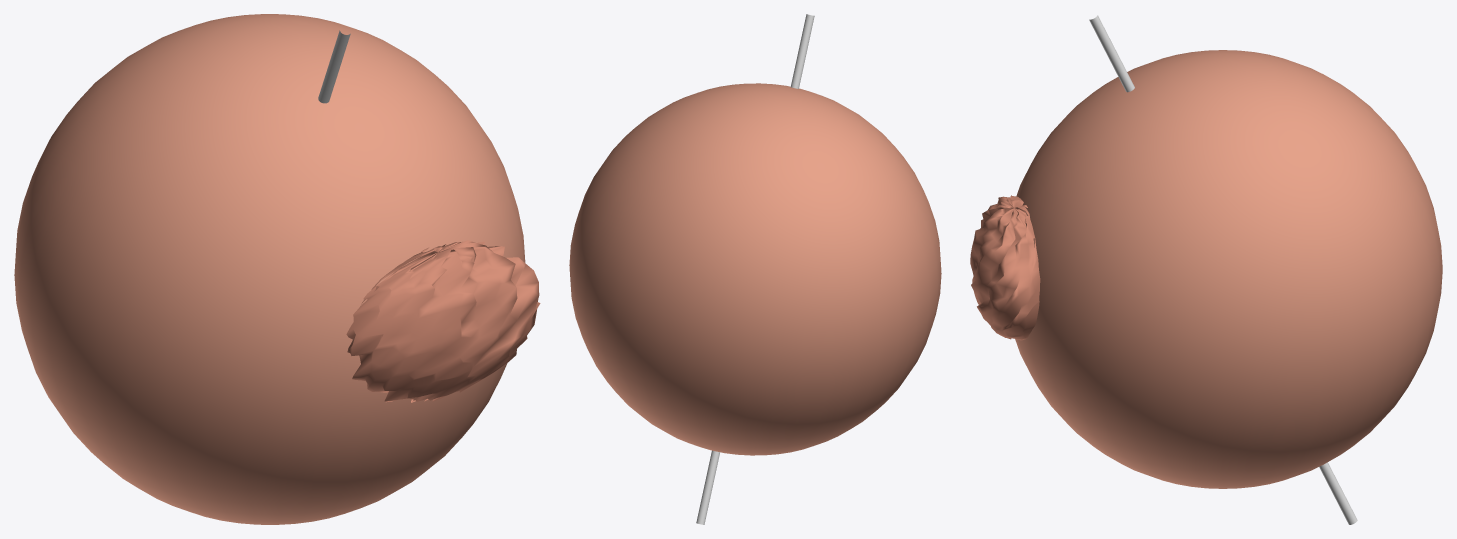
The model's file is mars.glb.
3 views of the same model, side by side, from view 1: azimuth 30°, elevation 25°; view 2: azimuth 150°, elevation 25°; view 3: azimuth 270°, elevation 25° (orthographic). The views are drawn at different scales.
Parts seen in each view (by area): view 1: mars, mars_feature_1, mars_axis; view 2: mars, mars_axis; view 3: mars, mars_feature_1, mars_axis.
Boxes of the visible parts, x1,y1,x2,y2 form: mars: (14, 14, 525, 524); mars_feature_1: (346, 240, 540, 402); mars_axis: (318, 30, 350, 103); mars: (569, 83, 941, 455); mars_axis: (696, 14, 814, 524); mars: (1015, 50, 1442, 488); mars_feature_1: (970, 195, 1040, 340); mars_axis: (1089, 15, 1357, 524).
Size of the model in its own units: 1.03 by 1.31 by 1.1.
